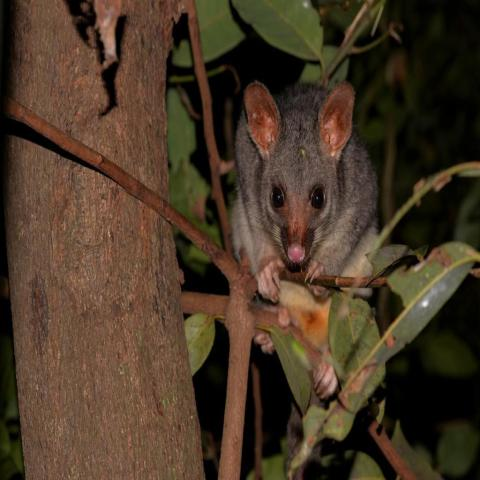small_animal: (229, 77, 381, 402)
